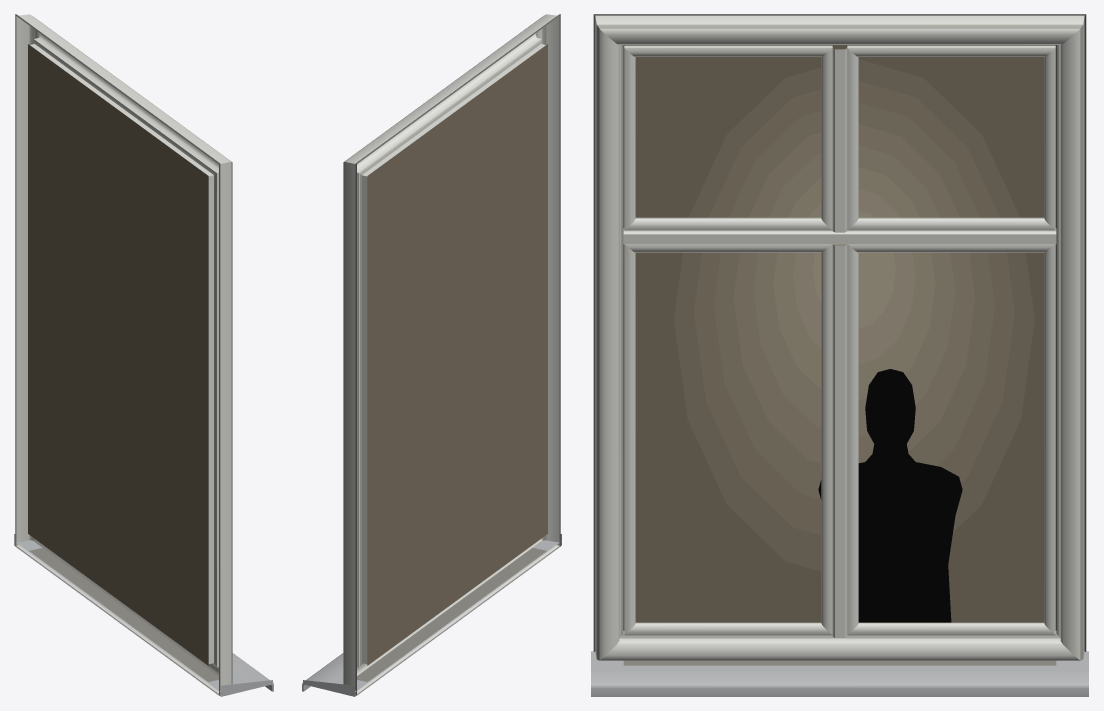
Rendered from window_188_fig.glb.
3 renders of one model, left to right at view 1: azimuth 30°, elevation 25°; view 2: azimuth 150°, elevation 25°; view 3: azimuth 270°, elevation 25°, orthographic. The views are drawn at different scales.
Parts seen in each view (by area): view 1: fenster; view 2: fenster; view 3: fenster.
Boxes of the visible parts, x1,y1,x2,y2 form: fenster: (14, 14, 273, 696); fenster: (302, 14, 561, 696); fenster: (591, 14, 1088, 696).
Size of the model in its own units: 0.205 by 1.99 by 1.38.
